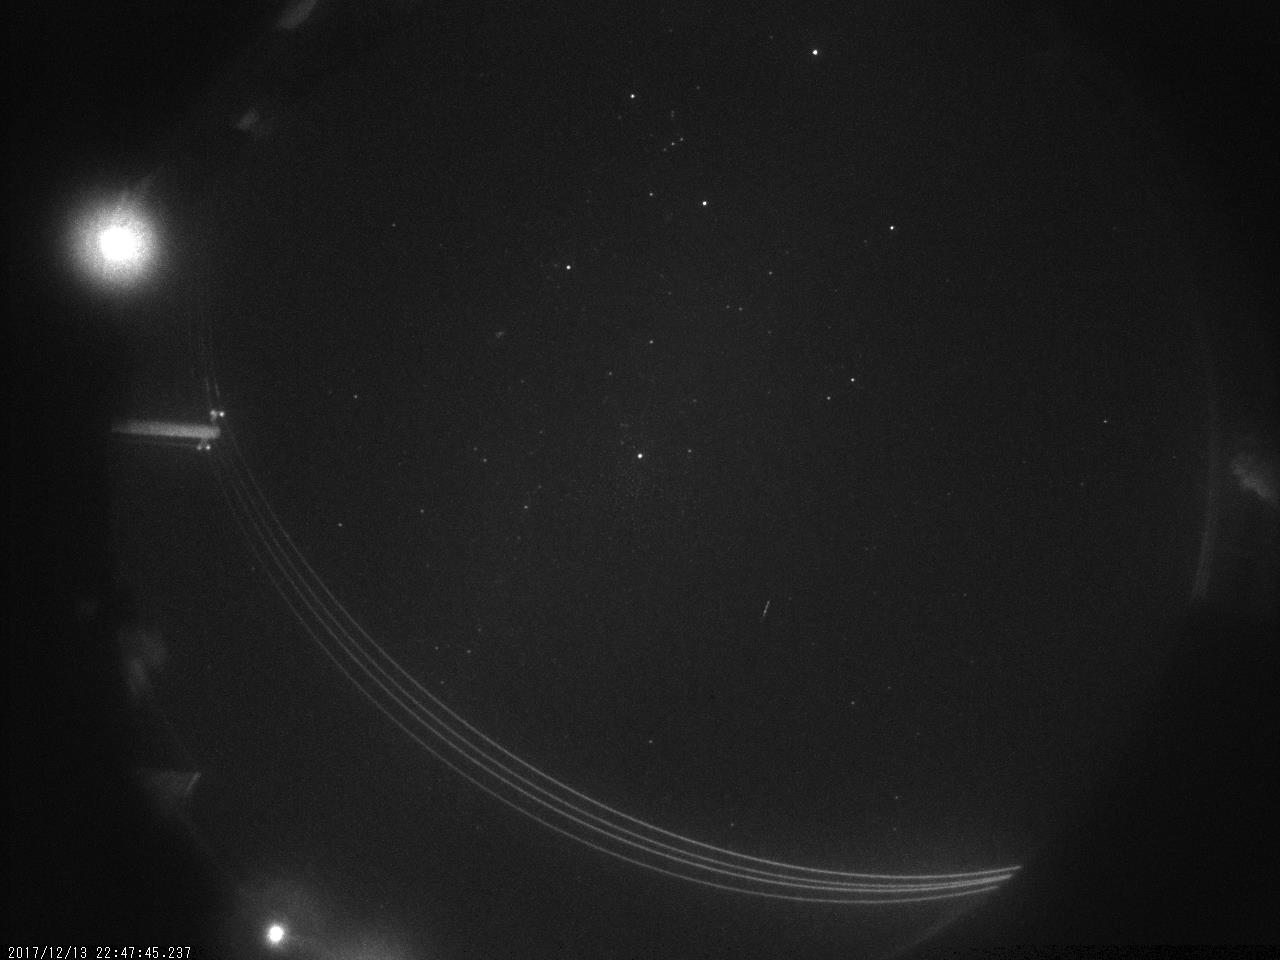meteor: (745, 592, 783, 631)
